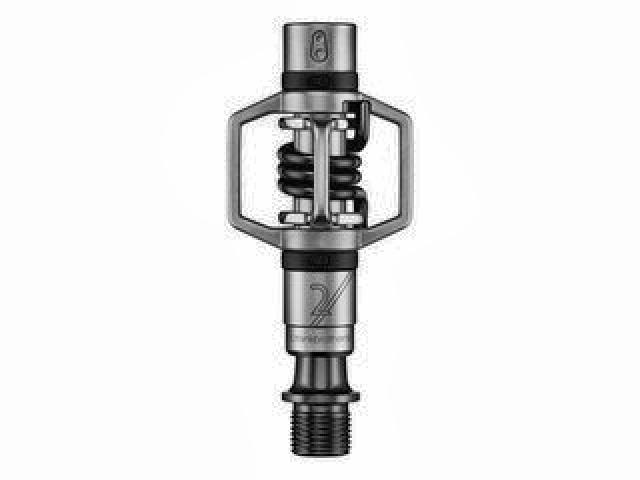pedal: (218, 14, 416, 464)
